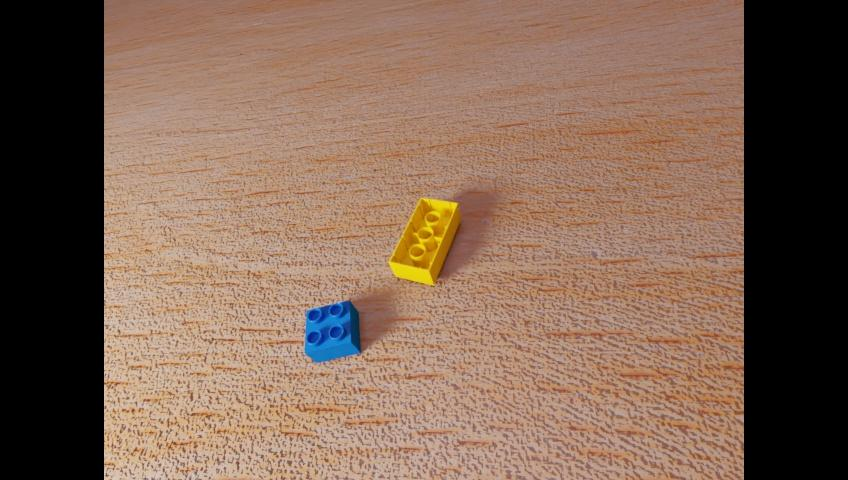2x2_blue: (304, 299, 359, 363)
4x2_yellow: (388, 197, 460, 285)
